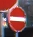No entry: (6, 5, 28, 32)
